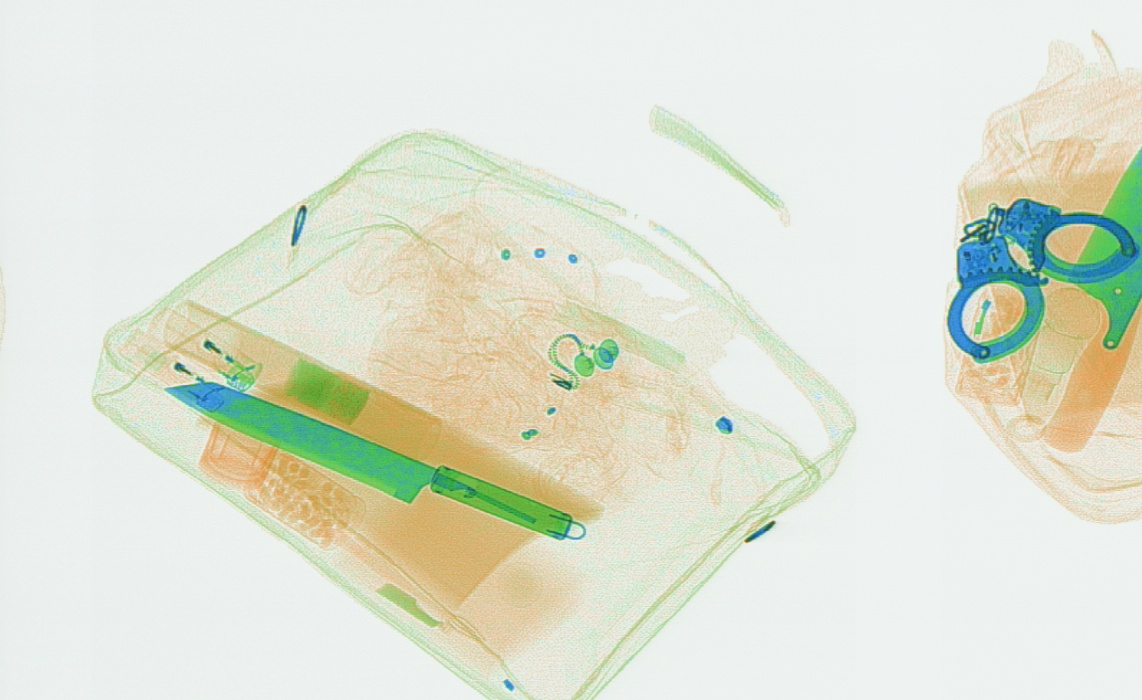firecrackers: (161, 301, 441, 457)
handcuffs: (945, 196, 1139, 363)
knife: (162, 379, 585, 543), (1040, 128, 1139, 456)
lighter: (137, 306, 264, 388), (115, 330, 230, 412)
